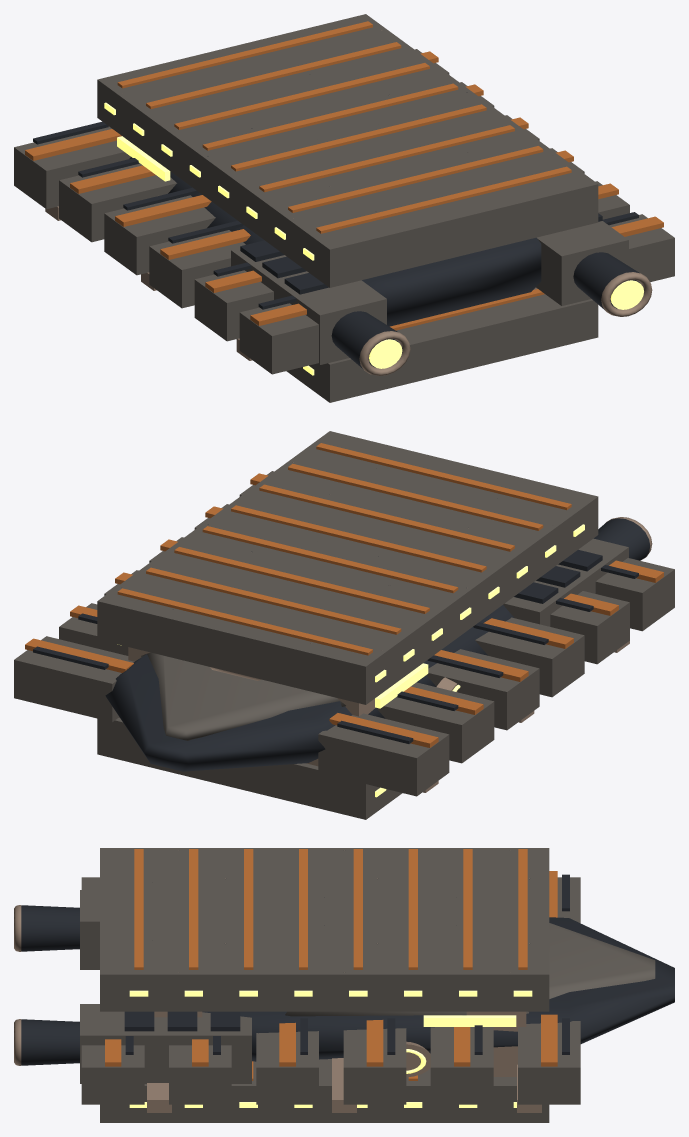
The model's file is compact_high_gravity--colony_ship.glb.
3 views of the same model, one above another, from view 1: azimuth 30°, elevation 25°; view 2: azimuth 150°, elevation 25°; view 3: azimuth 270°, elevation 25° (orthographic). The views are drawn at different scales.
Parts seen in each view (by area): view 1: ark_deck_continent_86, ark_deck_continent_111, load_bearing_wedge_1, armored_drive_block_4, armored_drive_block_25, habitat_block_62, habitat_block_47, habitat_block_50, habitat_block_53, habitat_block_56, habitat_block_59, habitat_block_80 (+27 smaller); view 2: ark_deck_continent_86, load_bearing_wedge_1, stepped_main_plate_2, ark_deck_continent_111, habitat_block_47, habitat_block_65, habitat_block_50, habitat_block_56, habitat_block_53, habitat_block_59, habitat_block_62, armored_drive_block_4 (+19 smaller); view 3: ark_deck_continent_86, load_bearing_wedge_1, ark_deck_continent_111, stepped_main_plate_2, armored_drive_block_25, habitat_block_65, habitat_block_68, habitat_block_71, habitat_block_74, habitat_block_80, habitat_block_77, engine_shroud_5 (+26 smaller).
Boxes of the visible parts, x1=… form: ark_deck_continent_86: x1=97, y1=14, x2=598, y2=287; ark_deck_continent_111: x1=286, y1=294, x2=598, y2=402; load_bearing_wedge_1: x1=129, y1=157, x2=541, y2=326; armored_drive_block_4: x1=231, y1=248, x2=386, y2=364; armored_drive_block_25: x1=536, y1=221, x2=628, y2=305; habitat_block_62: x1=239, y1=303, x2=318, y2=374; habitat_block_47: x1=14, y1=126, x2=130, y2=209; habitat_block_50: x1=59, y1=163, x2=176, y2=242; habitat_block_53: x1=104, y1=195, x2=215, y2=275; habitat_block_56: x1=149, y1=230, x2=245, y2=308; habitat_block_59: x1=194, y1=270, x2=273, y2=341; habitat_block_80: x1=609, y1=214, x2=674, y2=281; ark_deck_continent_86: x1=97, y1=431, x2=598, y2=704; load_bearing_wedge_1: x1=105, y1=605, x2=513, y2=771; stepped_main_plate_2: x1=141, y1=652, x2=345, y2=740; ark_deck_continent_111: x1=97, y1=718, x2=402, y2=819; habitat_block_47: x1=318, y1=713, x2=449, y2=796; habitat_block_65: x1=14, y1=636, x2=134, y2=722; habitat_block_50: x1=376, y1=682, x2=494, y2=763; habitat_block_56: x1=475, y1=617, x2=584, y2=697; habitat_block_53: x1=426, y1=649, x2=539, y2=730; habitat_block_59: x1=550, y1=591, x2=629, y2=664; habitat_block_62: x1=595, y1=558, x2=674, y2=631; armored_drive_block_4: x1=503, y1=538, x2=628, y2=626; ark_deck_continent_86: x1=100, y1=848, x2=549, y2=1011; load_bearing_wedge_1: x1=202, y1=917, x2=674, y2=1061; ark_deck_continent_111: x1=100, y1=1059, x2=549, y2=1122; stepped_main_plate_2: x1=285, y1=923, x2=655, y2=1016; armored_drive_block_25: x1=80, y1=1004, x2=251, y2=1083; habitat_block_65: x1=518, y1=1021, x2=580, y2=1104; habitat_block_68: x1=430, y1=1027, x2=493, y2=1104; habitat_block_71: x1=343, y1=1028, x2=406, y2=1104; habitat_block_74: x1=256, y1=1031, x2=318, y2=1104; habitat_block_80: x1=81, y1=1045, x2=144, y2=1104; habitat_block_77: x1=169, y1=1045, x2=231, y2=1104; engine_shroud_5: x1=21, y1=905, x2=79, y2=951.
Bounding box in the file's own units: 6500 × 2400 × 9500.
